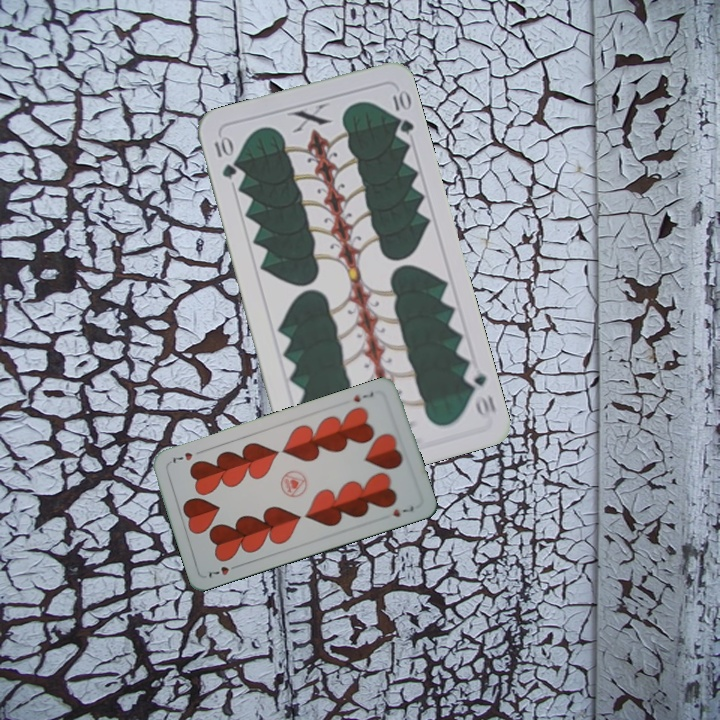G10: (460, 361, 498, 421), (210, 132, 239, 181)
H7: (204, 560, 242, 581), (349, 387, 376, 405)
